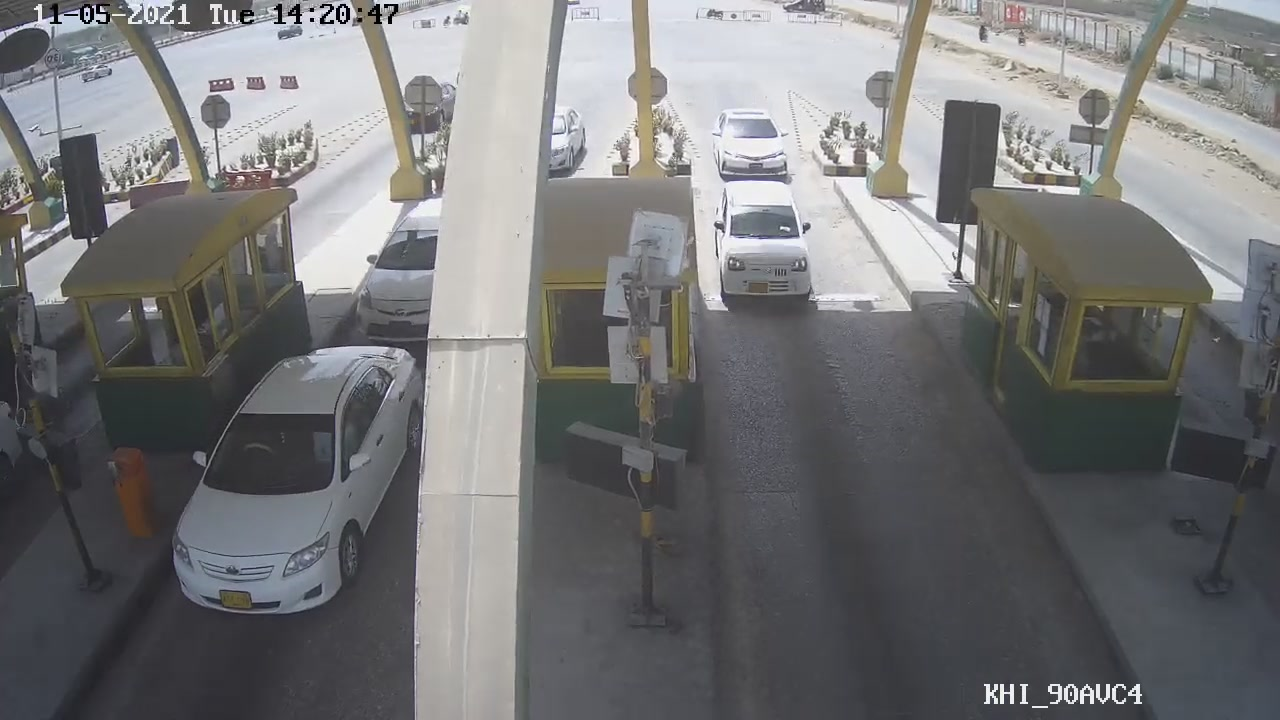F1: (708, 181, 829, 315)
